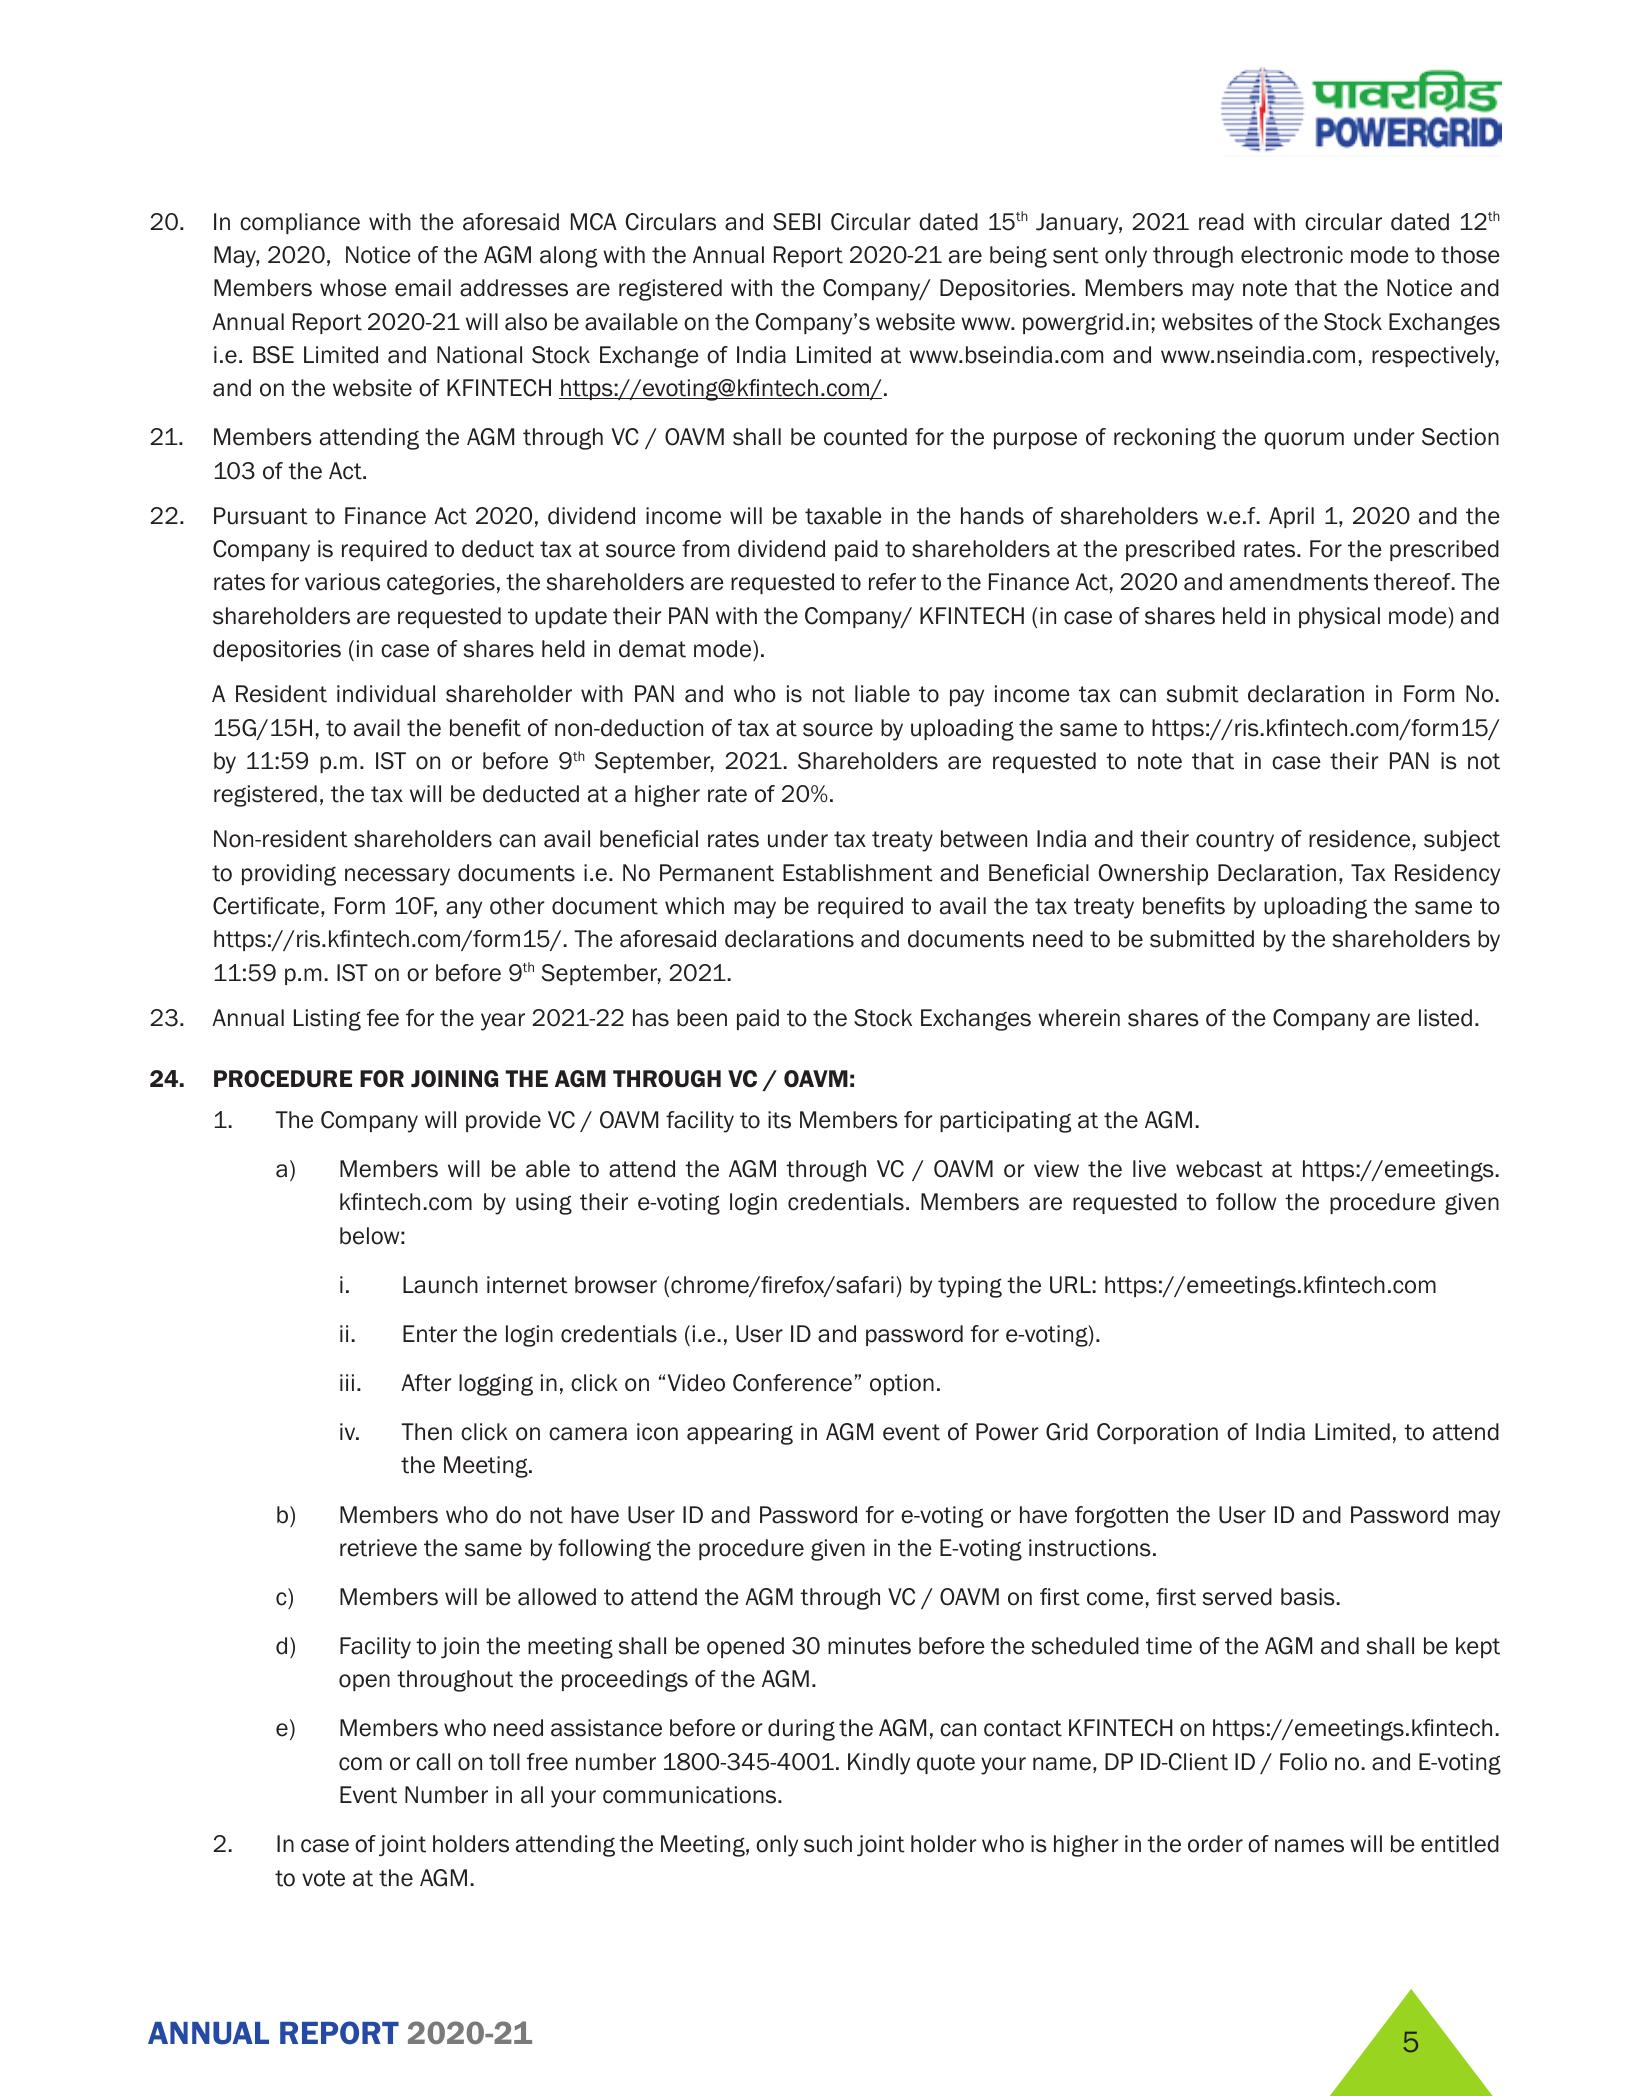Footer: (0, 1962, 1647, 2096)
Header: (0, 0, 1650, 158)
